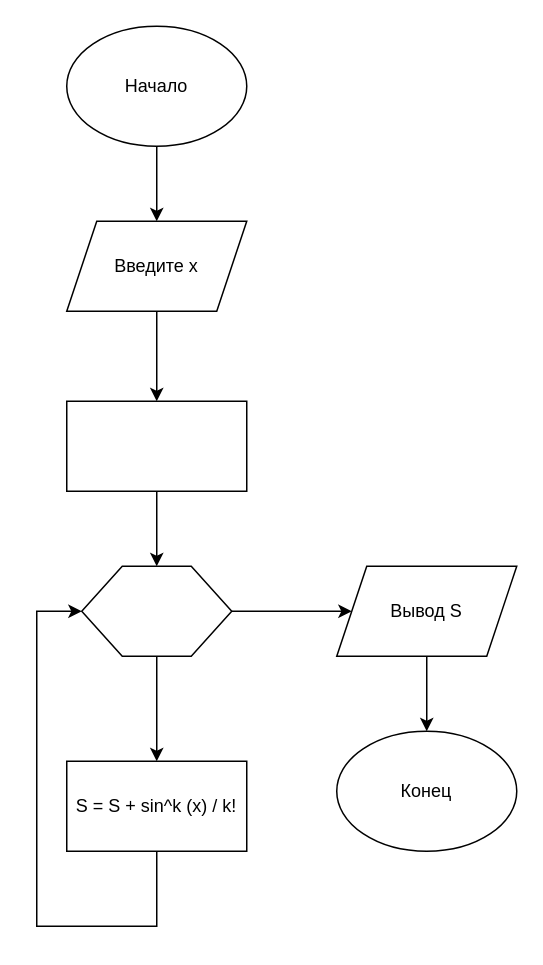
Some shapes in this 543 by 965 pixel diagram are drawn without their labels. Each missing label, with the centre of its shape:
k = 1, 10: (x=156, y=610)
S = 0: (x=156, y=445)
